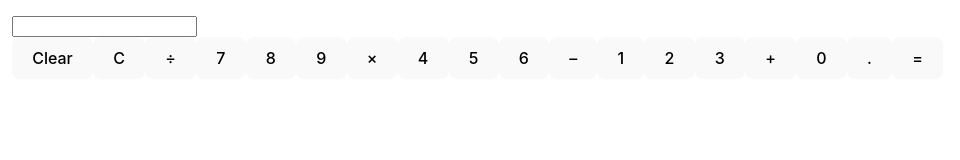
Test case: Calculator E2E Tests › should perform addition correctly
Click the button with test id "num-1" at point(621, 58), box [597, 37, 644, 78]
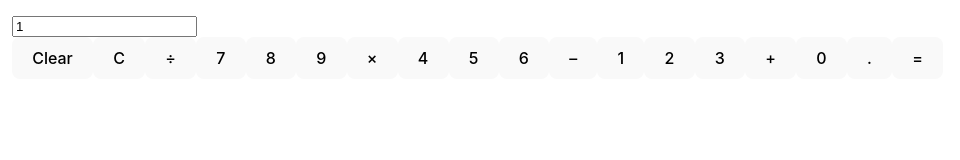
Click the button with test id "add" at point(771, 58), box [745, 37, 796, 78]
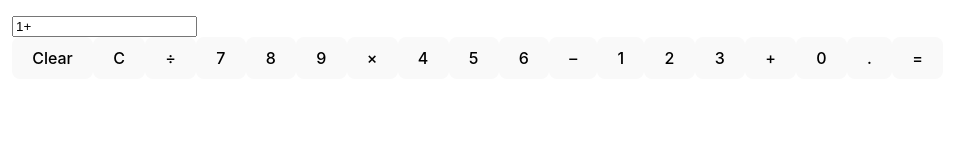
Click the button with test id "num-1" at point(621, 58), box [597, 37, 644, 78]
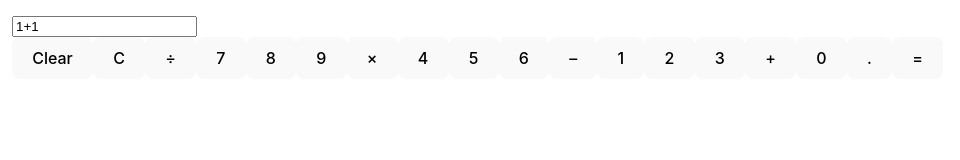
Click the button with test id "equals" at point(918, 58), box [892, 37, 943, 78]
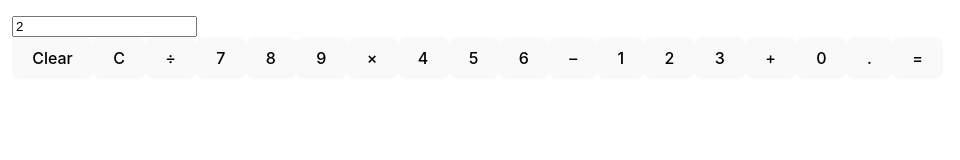
Expected: the field holds "2", [12, 16, 197, 37]
